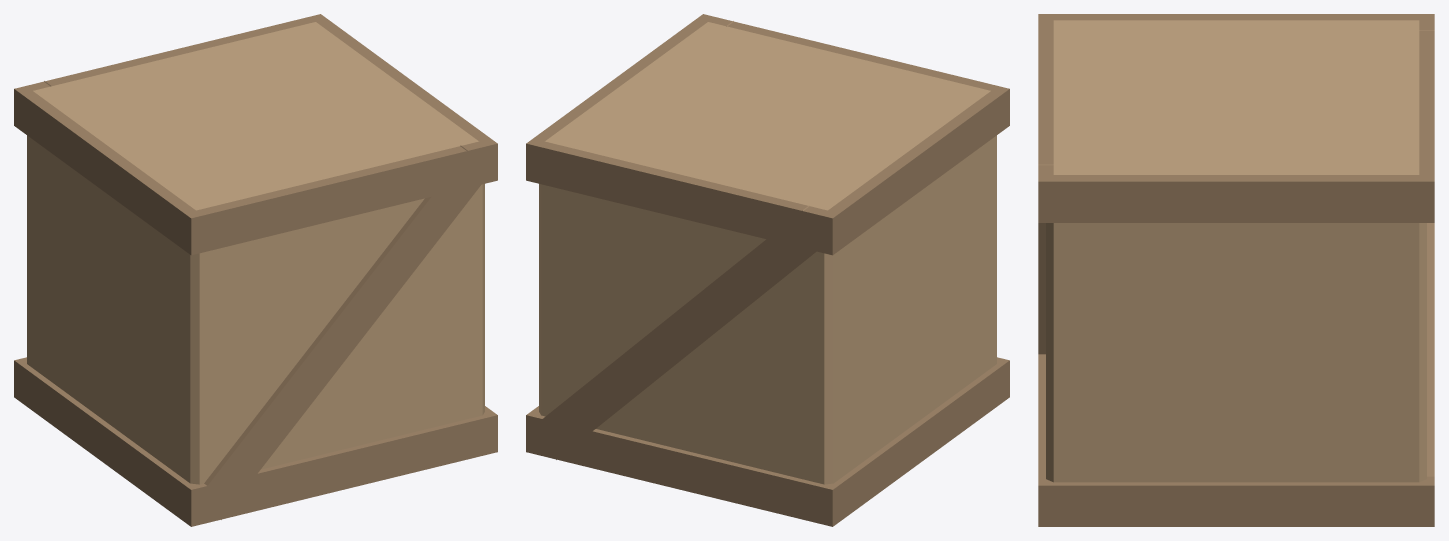
The model's file is rs_crate.glb.
The picture shows the model from 3 angles, left to right: view 1: azimuth 30°, elevation 25°; view 2: azimuth 150°, elevation 25°; view 3: azimuth 270°, elevation 25°; orthographic projection. The views are drawn at different scales.
Parts seen in each view (by area): view 1: rs_crate; view 2: rs_crate; view 3: rs_crate.
Part boxes in pixels (box(x1,y1,x2,y2)): rs_crate: box(14, 14, 497, 526); rs_crate: box(526, 14, 1009, 526); rs_crate: box(1038, 14, 1434, 526).
Size of the model in its own units: 1.04 by 1 by 1.04.
